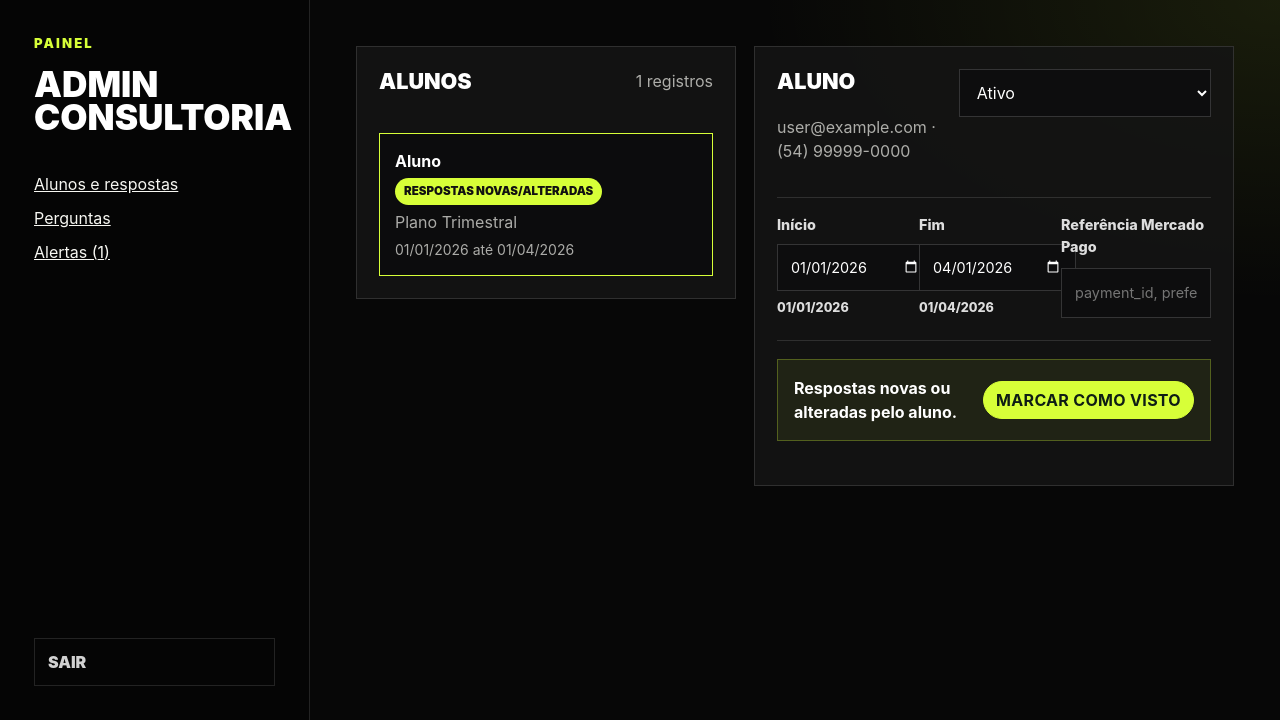
Dashboard › shows unseen answers and payment alerts
Expected: the text "Respostas novas/alteradas" is shown, [395,178,602,205]
Click the link "Alertas (1)" at coordinates (72, 252), box [34,242,110,262]
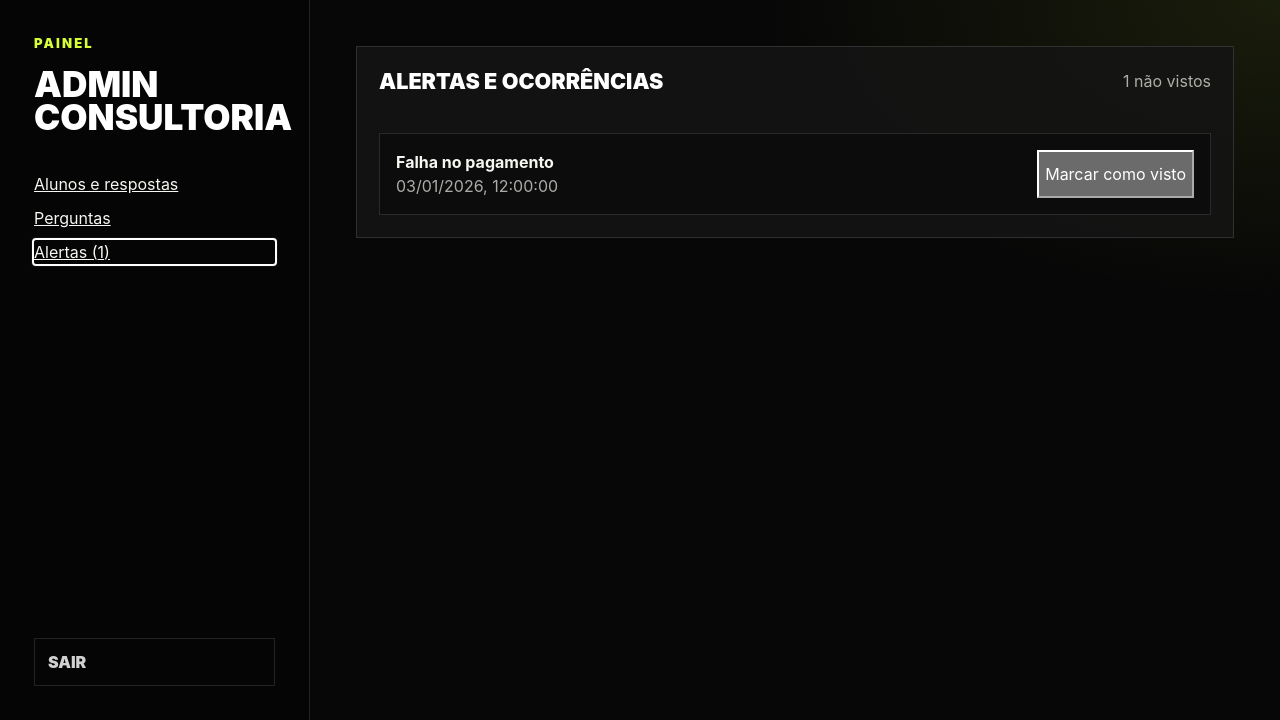
Now the text "Falha no pagamento" is shown, box [396,150,558,174]
